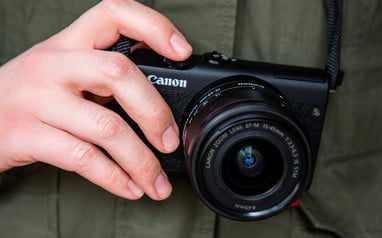camera: (119, 48, 324, 215)
